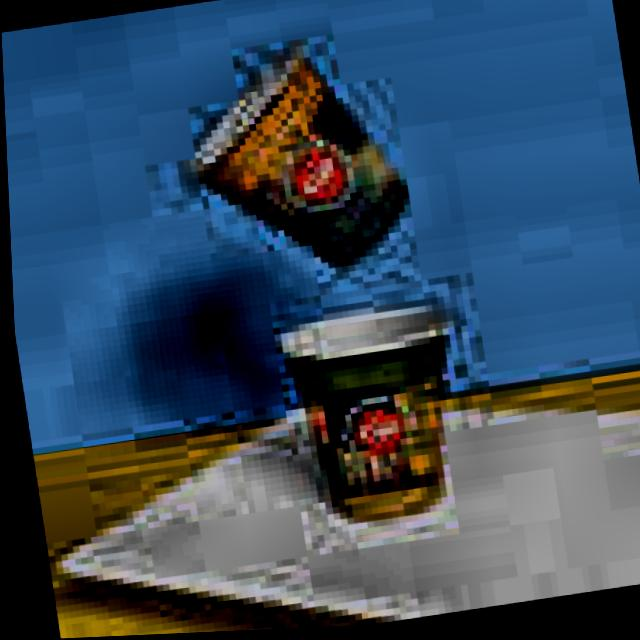Cup: (171, 32, 408, 299), (276, 289, 473, 540)
